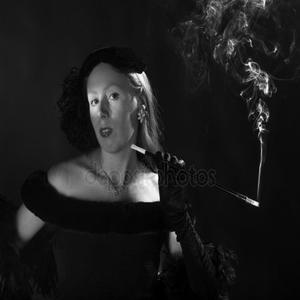cigarette: (240, 187, 265, 213)
